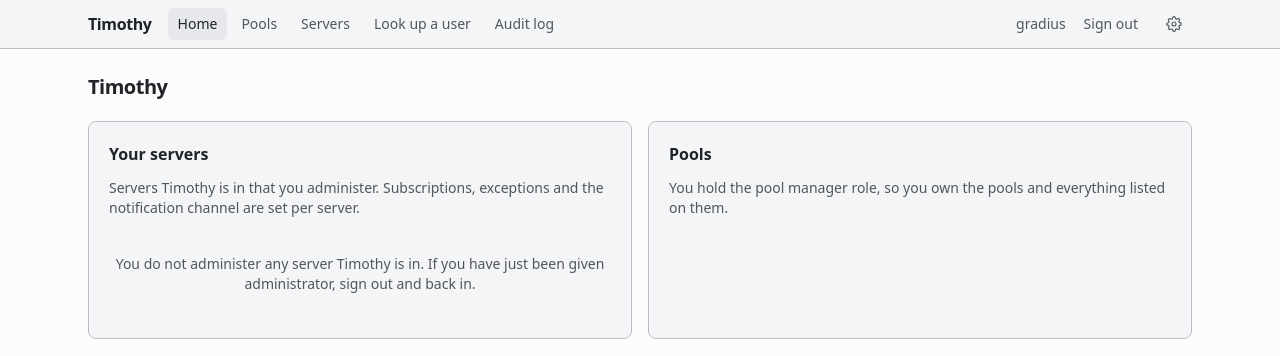
Test: the settings menu › closes on Escape, so an accidental open is not a trap
Click the button named "Settings": (1174, 24) [1156,8,1192,40]
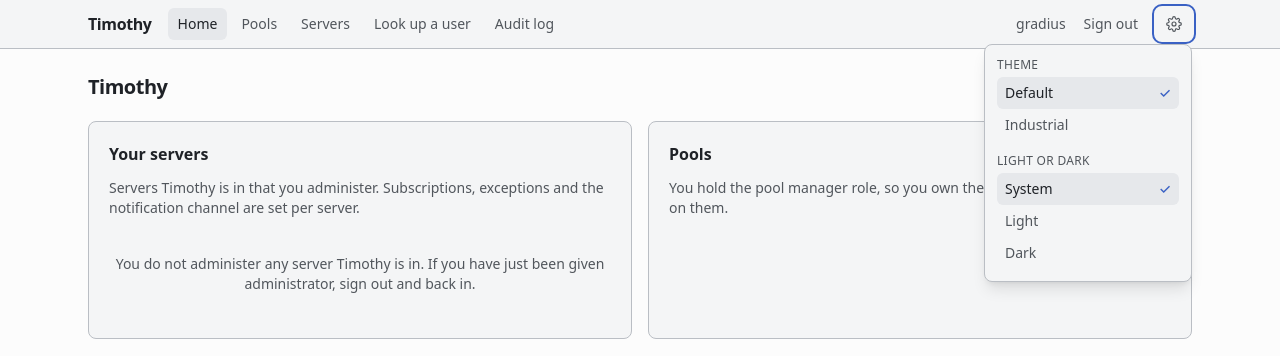
Press Escape
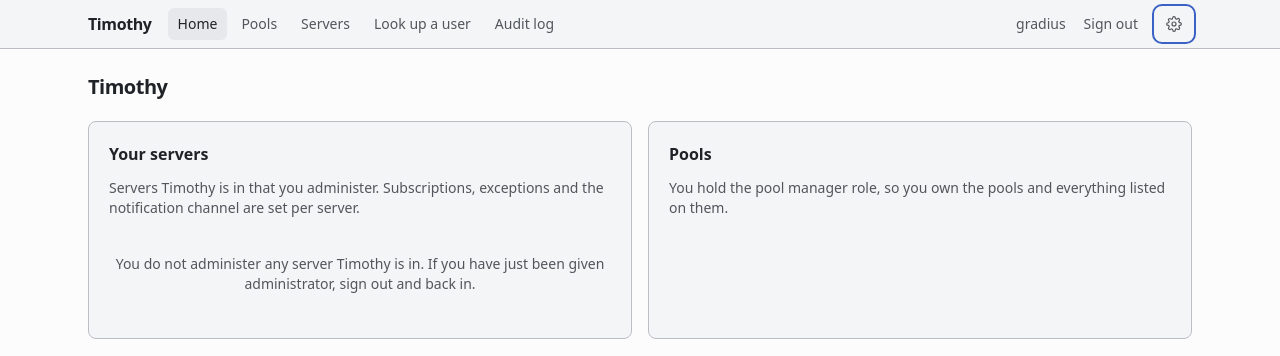
Check: the text "Theme Default ✓ Industrial Light or dark System ✓ Light Dark" is gone
